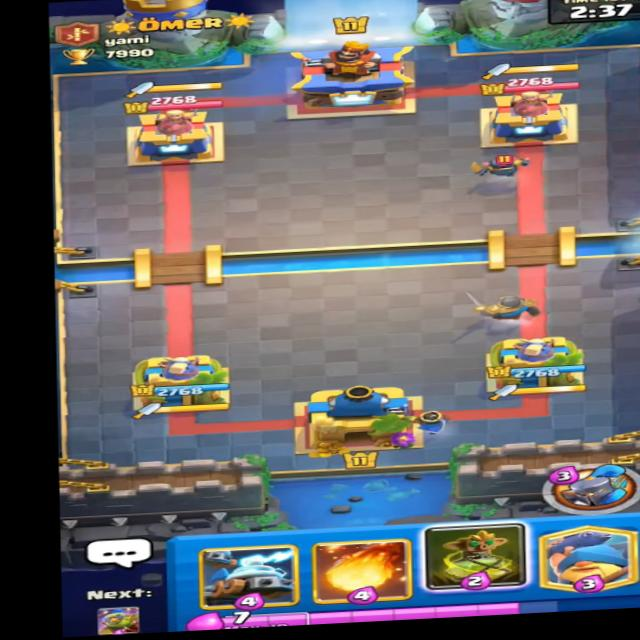mini-pekka: (463, 150, 529, 182)
